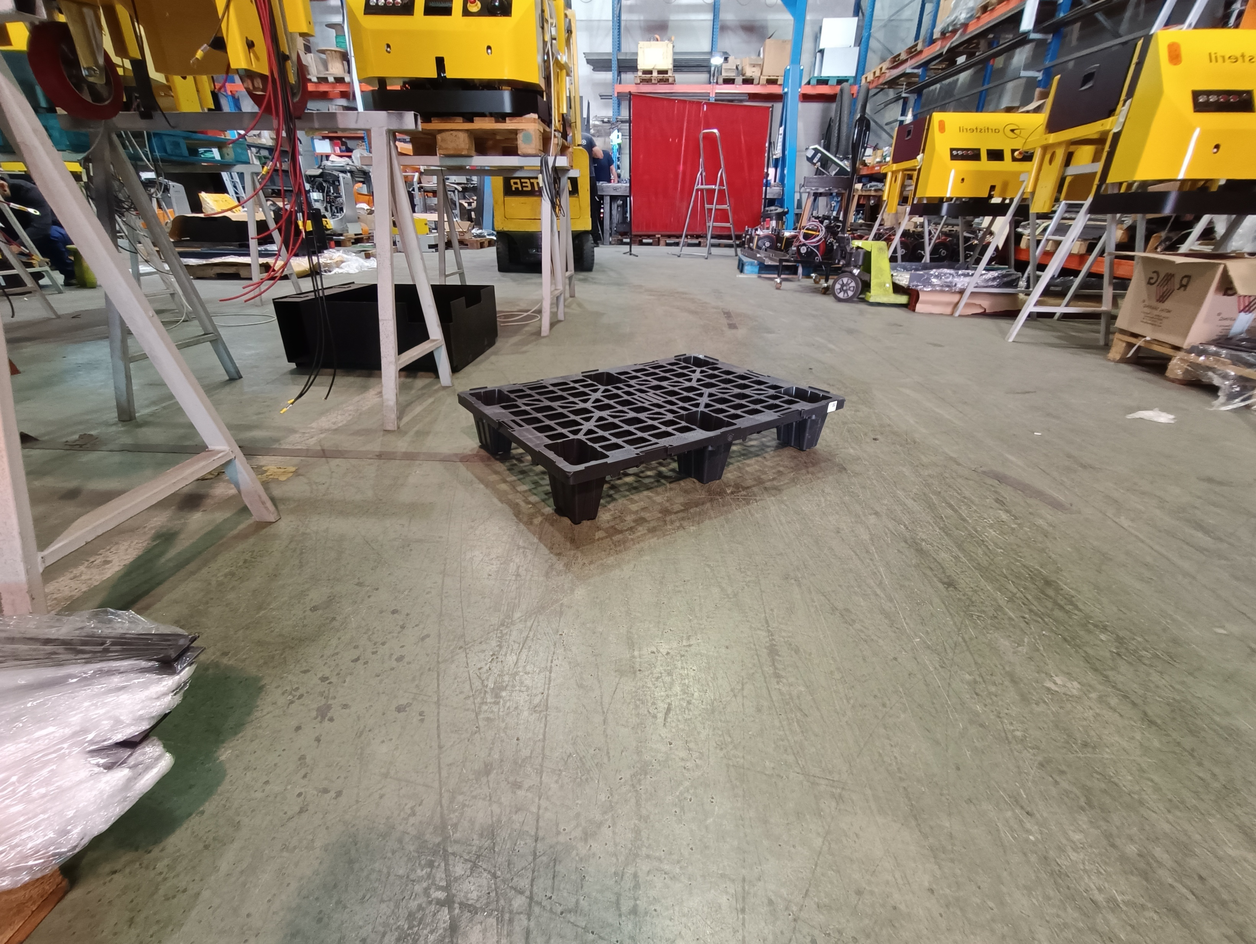block: (569, 464, 610, 528), (467, 408, 510, 467), (691, 429, 732, 490), (800, 404, 830, 459)
front: (553, 389, 858, 536)
hole pallet: (599, 442, 702, 511), (731, 415, 806, 471)
